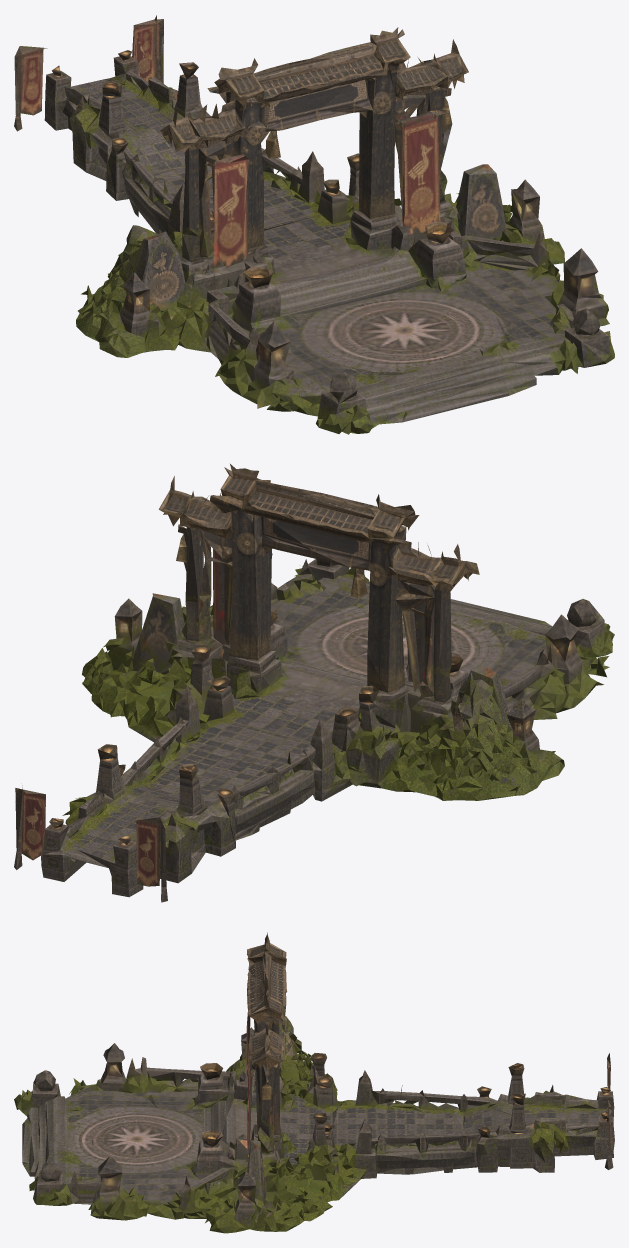
File: temple-gate.glb
The picture shows the model from 3 angles, top to bottom: view 1: azimuth 30°, elevation 25°; view 2: azimuth 150°, elevation 25°; view 3: azimuth 270°, elevation 25°; orthographic projection. The views are drawn at different scales.
Visible parts, largest first — view 1: output_unwrapped; view 2: output_unwrapped; view 3: output_unwrapped.
Boxes of the visible parts, x1,y1,x2,y2 form: output_unwrapped: (14,15,614,434); output_unwrapped: (14,464,614,902); output_unwrapped: (14,932,614,1233).
Size of the model in its own units: 1.25 by 0.6518 by 1.89.
1 material, 1 textured.
